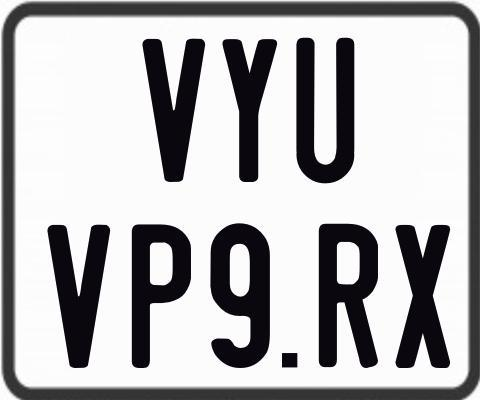9: (210, 220, 274, 369)
P: (130, 222, 193, 367)
R: (317, 222, 382, 367)
U: (296, 36, 357, 184)
V: (44, 225, 112, 369), (141, 36, 205, 185)
X: (394, 225, 451, 373)
Y: (222, 37, 279, 185)
